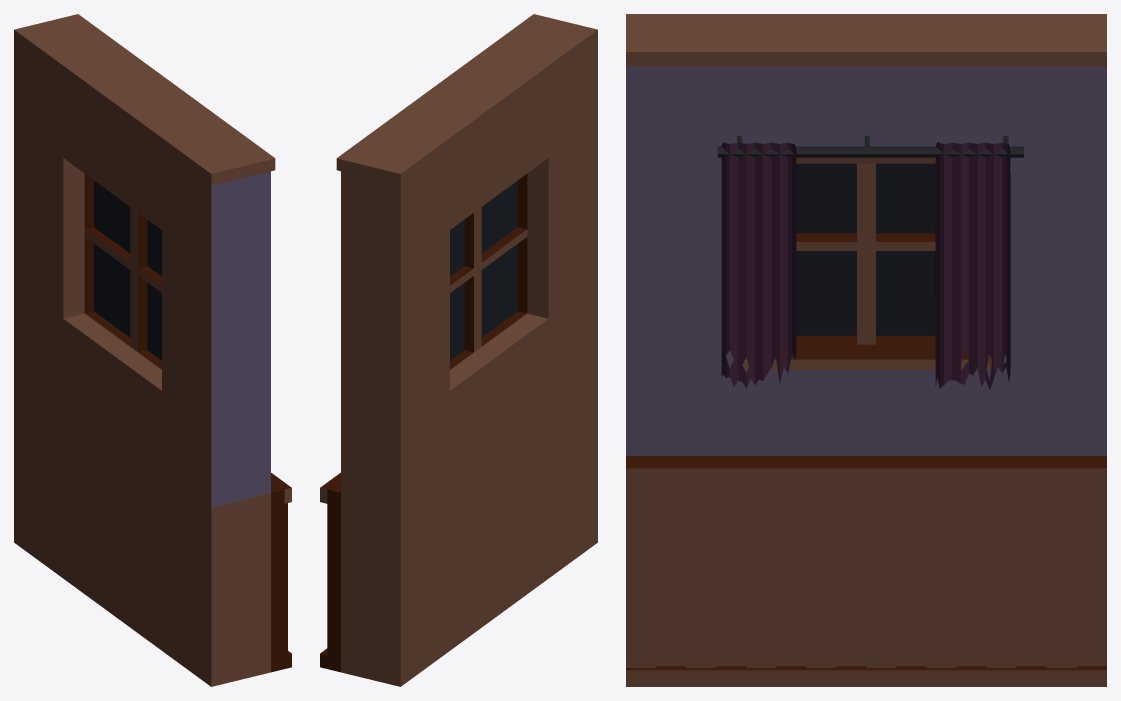
File: Pentacles_Wall_Window_WithCurtain_2.fbx
3 views of the same model, side by side, from view 1: azimuth 30°, elevation 25°; view 2: azimuth 150°, elevation 25°; view 3: azimuth 270°, elevation 25° (orthographic). The views are drawn at different scales.
Parts seen in each view (by area): view 1: Fenster einzeln.001; view 2: Fenster einzeln.001; view 3: Fenster einzeln.001.
Part boxes in pixels (<box>): Fenster einzeln.001: <box>14,14,291,686</box>; Fenster einzeln.001: <box>320,14,597,686</box>; Fenster einzeln.001: <box>626,14,1106,686</box>.
Bounding box in the file's own units: 109 × 597 × 416.
